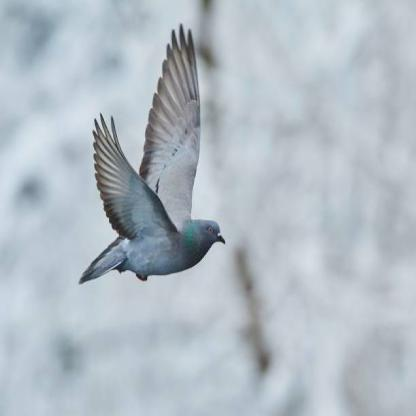Rock Pigeon: (72, 27, 227, 287)
